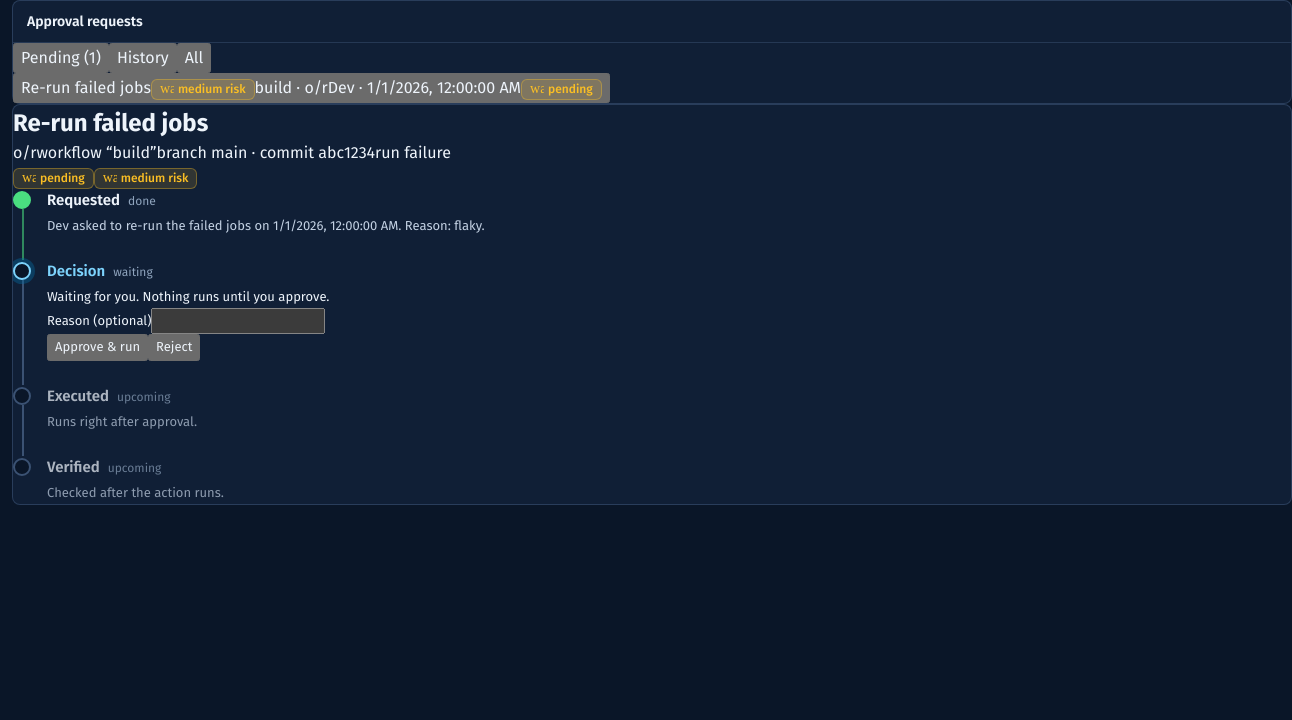
Test: LiveApprovals › shows the backend's refusal and a failed execution honestly
What coordinates should you click on to do the following:
click the button "Approve & run"
I would click on:
 (98, 348)
Its box is [47,334,148,361].
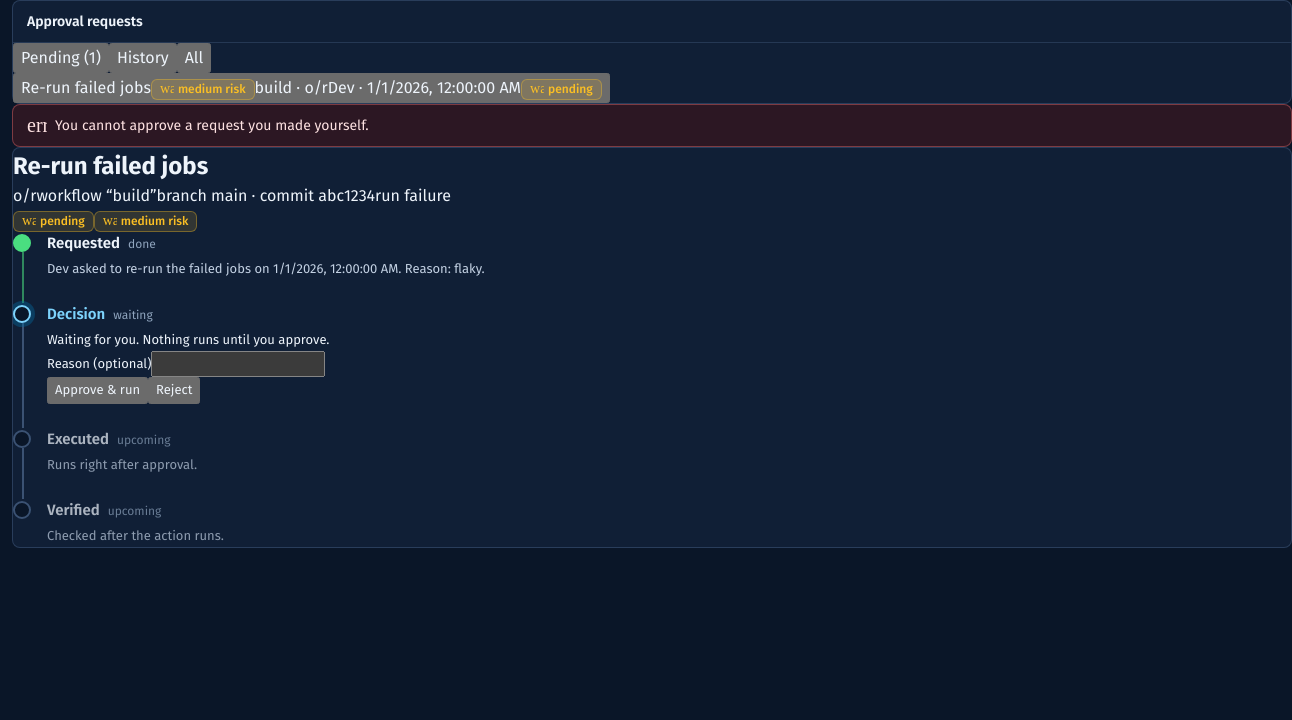
Expected: the message shows "cannot approve a request you made", [55,117,368,134]
